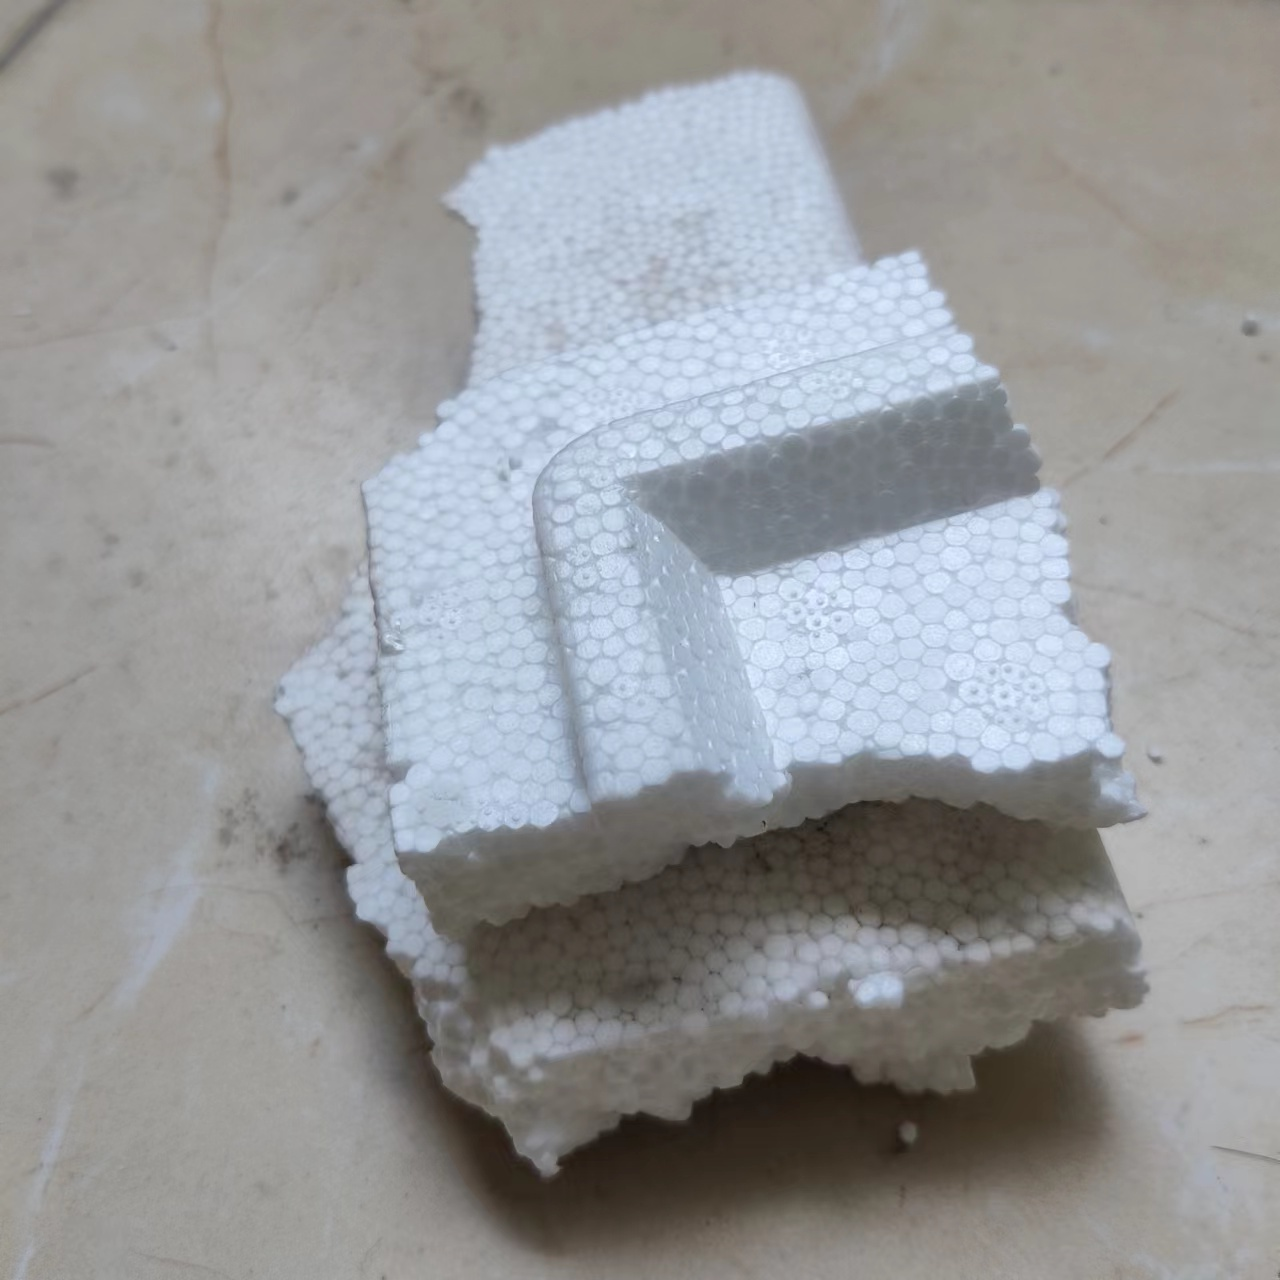5/可回收垃圾/泡沫: (271, 64, 1156, 1177), (361, 252, 1150, 940)
